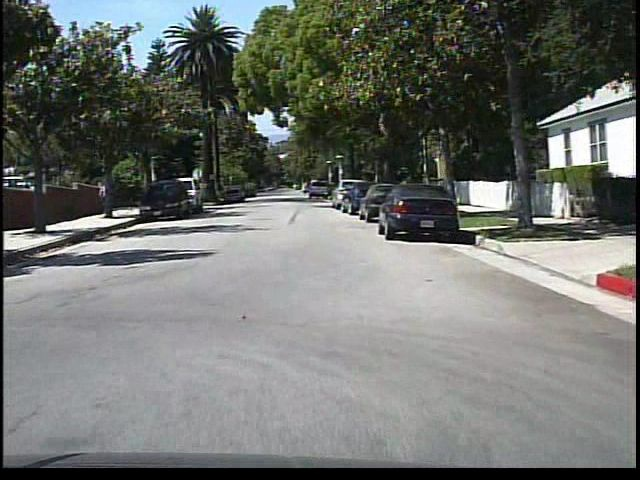person: (94, 177, 111, 216)
